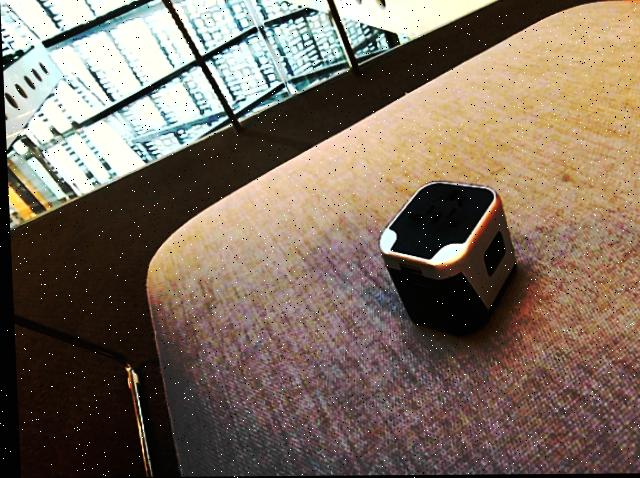adapter: (374, 180, 516, 337)
